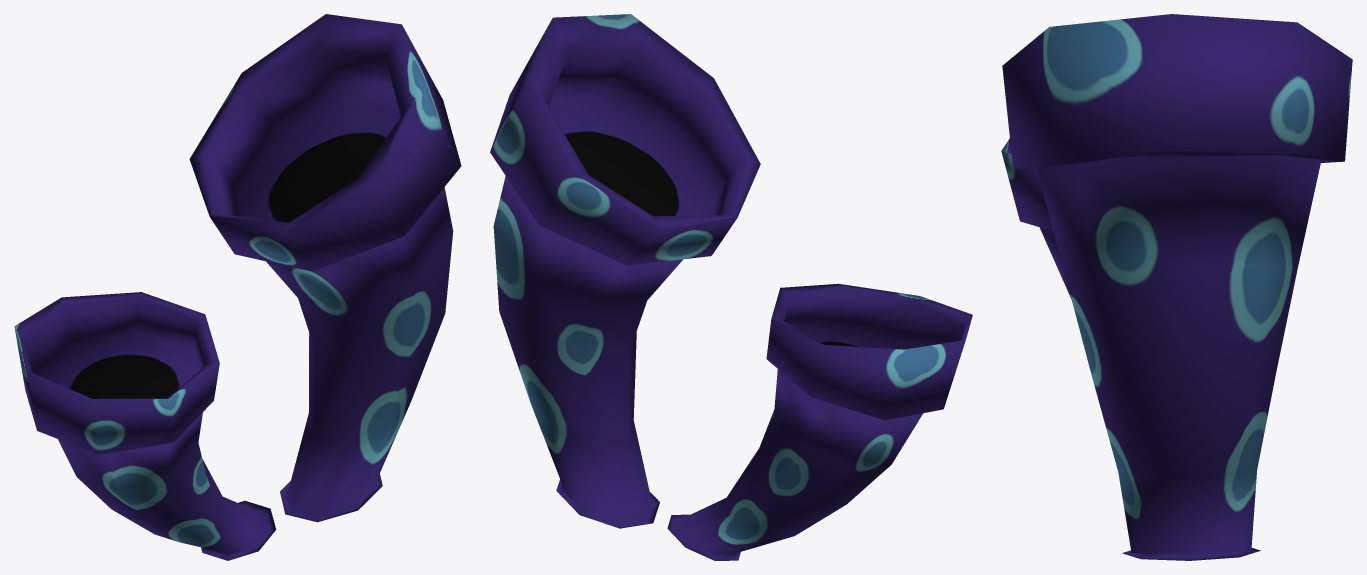
File: object_71.014_lev3.glb
3 views of the same model, side by side, from view 1: azimuth 30°, elevation 25°; view 2: azimuth 150°, elevation 25°; view 3: azimuth 270°, elevation 25° (orthographic). The views are drawn at different scales.
Parts seen in each view (by area): view 1: object_71.014_lev3; view 2: object_71.014_lev3; view 3: object_71.014_lev3.
Boxes of the visible parts, box(x1,y1,x2,y2) form: object_71.014_lev3: box(14, 14, 461, 560); object_71.014_lev3: box(490, 14, 972, 560); object_71.014_lev3: box(1001, 14, 1352, 560).
Bounding box in the file's own units: 3.19 × 3.41 × 1.76.
Materials: 1 (1 with a texture image).
